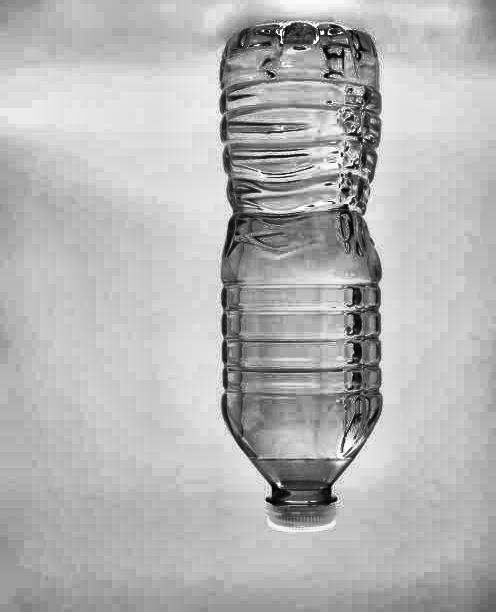waterbottle: (178, 9, 416, 562)
